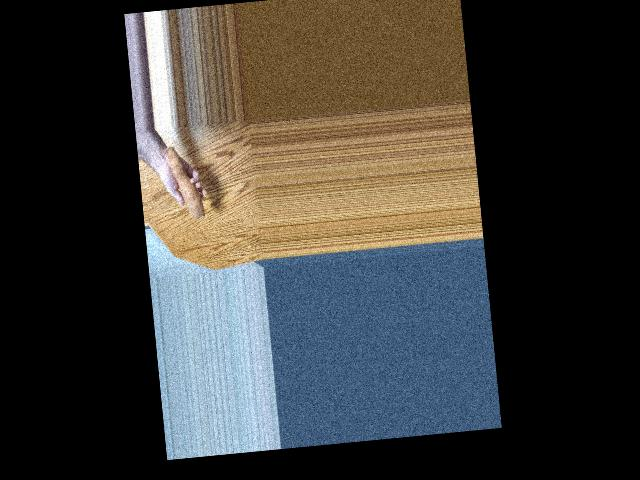sweet_potato: (163, 145, 207, 220)
